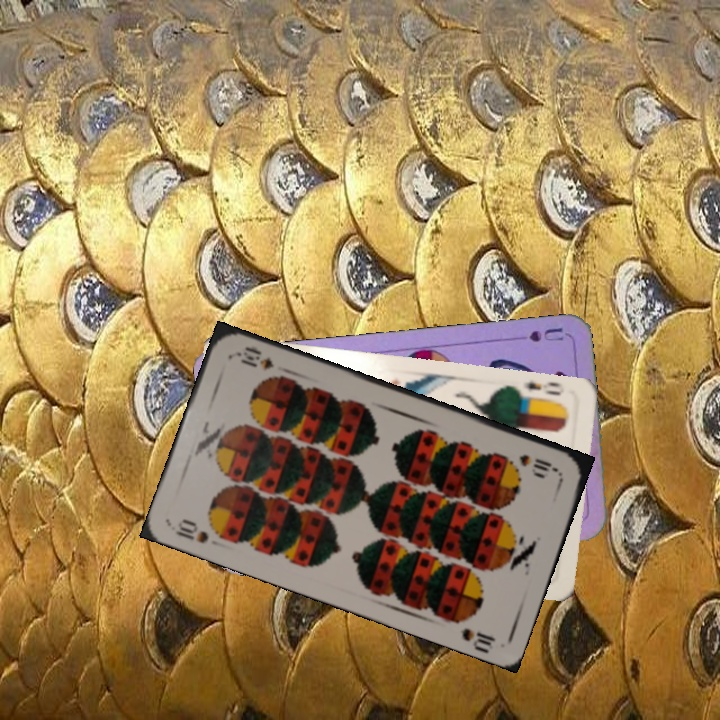EO: (514, 377, 564, 405)
S10: (171, 514, 211, 546), (515, 450, 561, 475)
SU: (506, 323, 566, 345)
